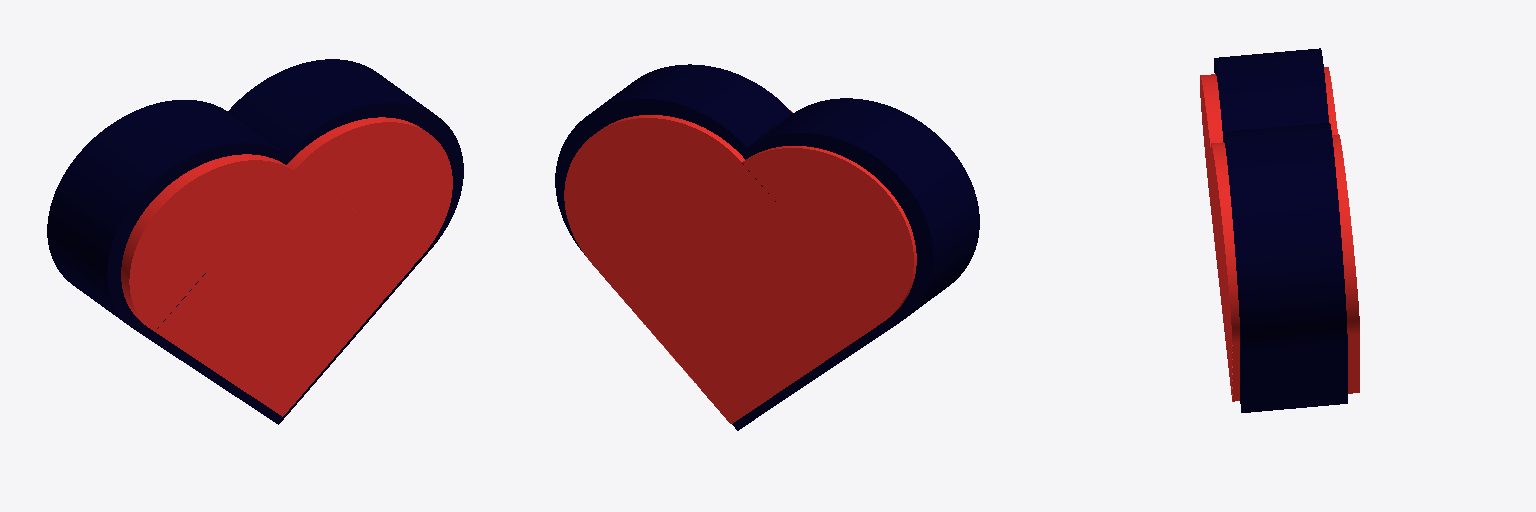
3 views of the same model, side by side, from view 1: azimuth 30°, elevation 25°; view 2: azimuth 150°, elevation 25°; view 3: azimuth 270°, elevation 25° (orthographic).
Parts seen in each view (by area): view 1: Cube.002; view 2: Cube.002; view 3: Cube.002.
Boxes of the visible parts, box(x1,y1,x2,y2) form: Cube.002: box(47, 59, 463, 424); Cube.002: box(555, 64, 979, 430); Cube.002: box(1200, 48, 1359, 412).
Bounding box in the file's own units: 0.5775 × 0.4593 × 0.2146.
1 materials, 1 textured.